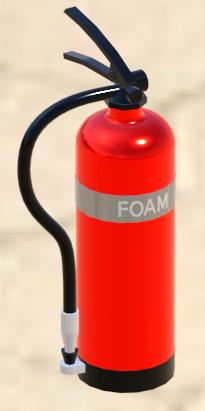fire_extinguisher: (0, 1, 205, 411)
